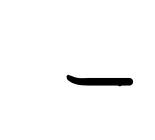minus: (66, 74, 133, 88)
